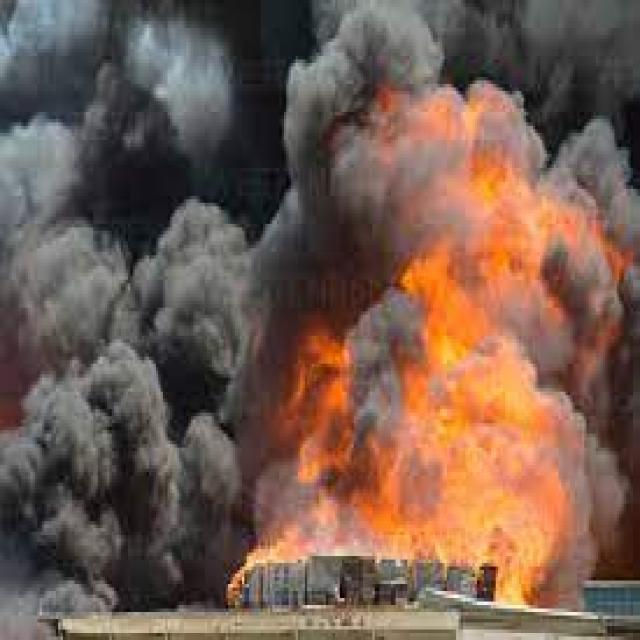Fire: (416, 264, 566, 572), (299, 324, 402, 550)
Smoke: (0, 4, 640, 191), (1, 204, 223, 592)
